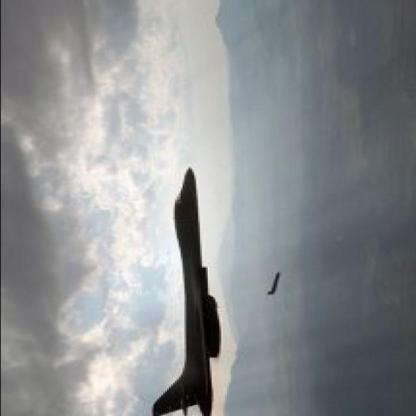MIL_TBM: (271, 270, 283, 295)
